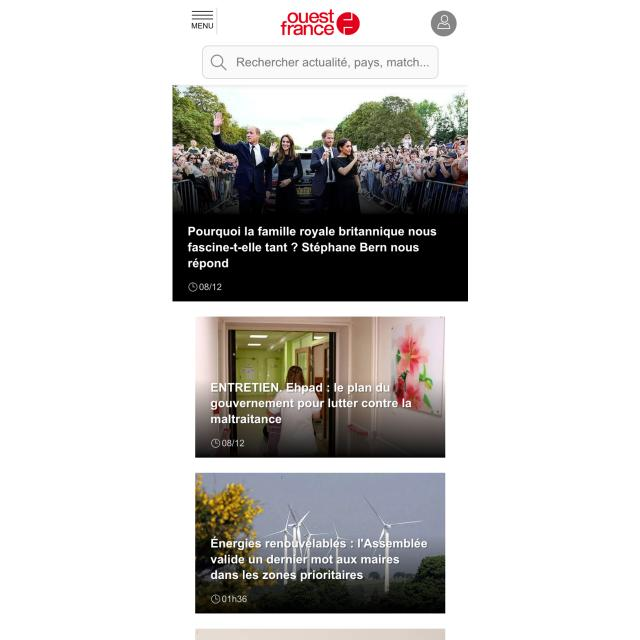CheckedTextView: (201, 44, 440, 80)
Input field: (183, 223, 437, 272), (210, 534, 430, 582), (210, 378, 413, 426)
bag: (170, 0, 467, 85)
card: (173, 85, 467, 302)
carousel: (430, 9, 458, 38), (209, 52, 228, 74), (210, 437, 220, 450), (188, 281, 198, 293), (211, 593, 220, 605)
copy: (195, 473, 446, 613), (196, 316, 445, 457)
date picker: (279, 7, 361, 38)
decoration: (190, 8, 214, 32)
footer: (235, 56, 432, 70)
